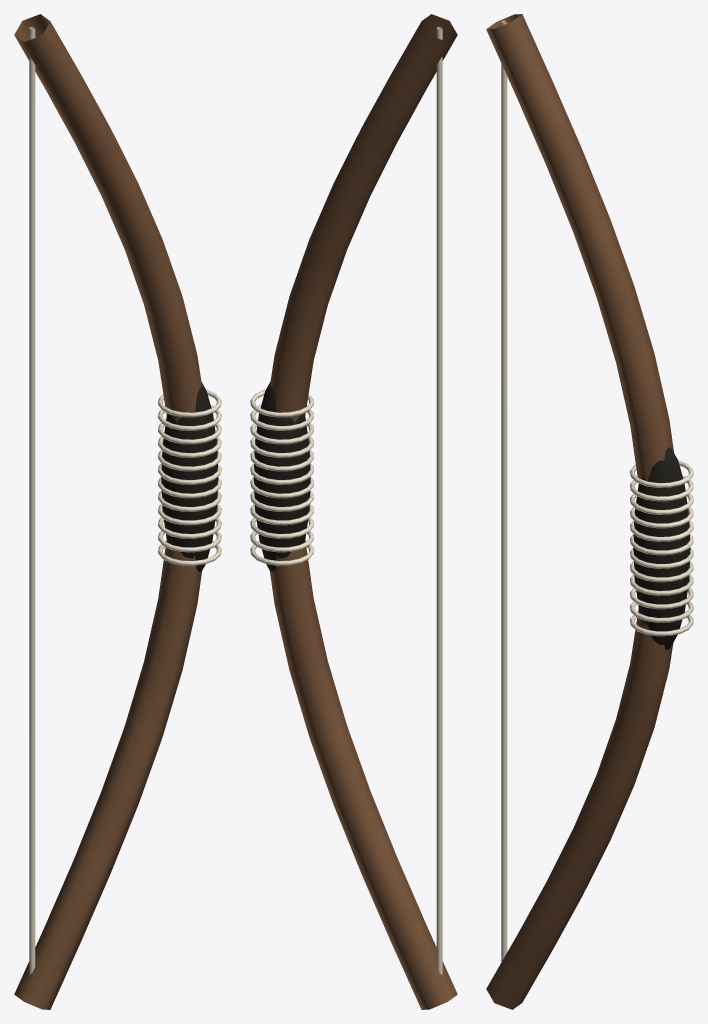
The model's file is bow.glb.
The picture shows the model from 3 angles, left to right: view 1: azimuth 30°, elevation 25°; view 2: azimuth 150°, elevation 25°; view 3: azimuth 330°, elevation 25°; orthographic projection.
Visible parts, largest first — view 1: bow limb, string, leather grip; view 2: bow limb, string, leather grip; view 3: bow limb, string, leather grip.
Part boxes in pixels (x1,y1,x2,y2): bow limb: [14, 14, 202, 1009]; string: [29, 26, 221, 974]; leather grip: [161, 382, 218, 571]; bow limb: [269, 14, 457, 1009]; string: [250, 26, 442, 974]; leather grip: [253, 382, 310, 571]; bow limb: [486, 14, 673, 1009]; string: [501, 20, 693, 961]; leather grip: [633, 447, 690, 650].
Bounding box in the file's own units: 0.2773 × 1.32 × 0.078.
